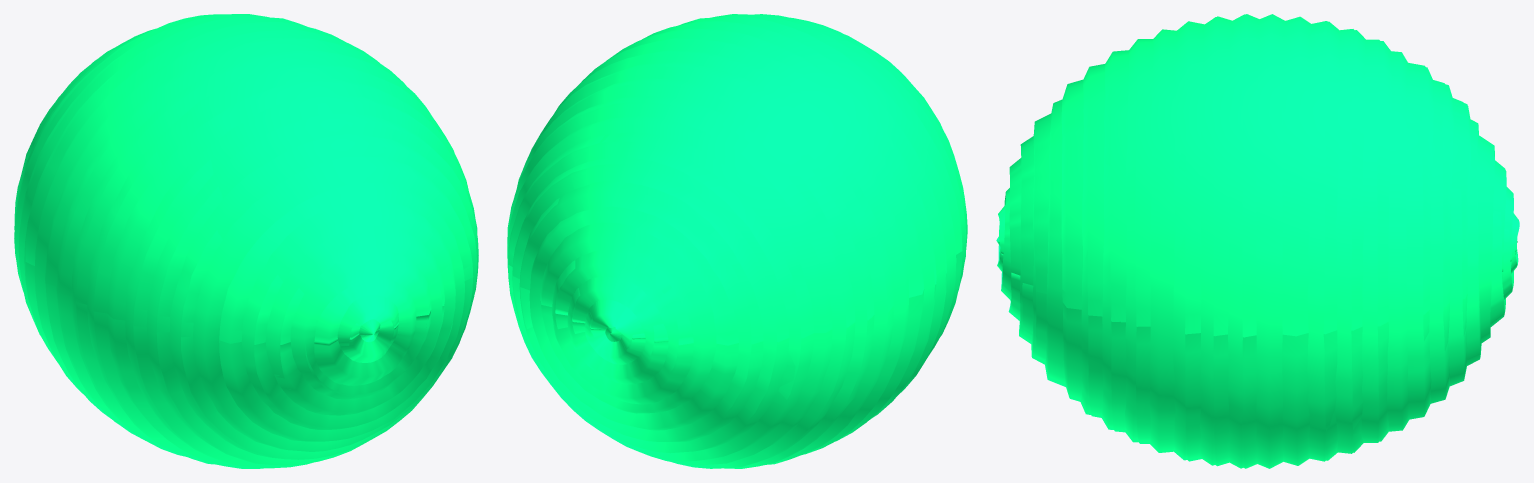
File: hypersphere_ar_universal.glb
3 views of the same model, side by side, from view 1: azimuth 30°, elevation 25°; view 2: azimuth 150°, elevation 25°; view 3: azimuth 270°, elevation 25° (orthographic). The views are drawn at different scales.
Visible parts, largest first — view 1: hypersphere_ar; view 2: hypersphere_ar; view 3: hypersphere_ar.
Part boxes in pixels (x1,y1,x2,y2): hypersphere_ar: (14,14,478,468); hypersphere_ar: (507,14,967,468); hypersphere_ar: (996,14,1519,468).
Size of the model in its own units: 0.8717 by 0.8719 by 1.
